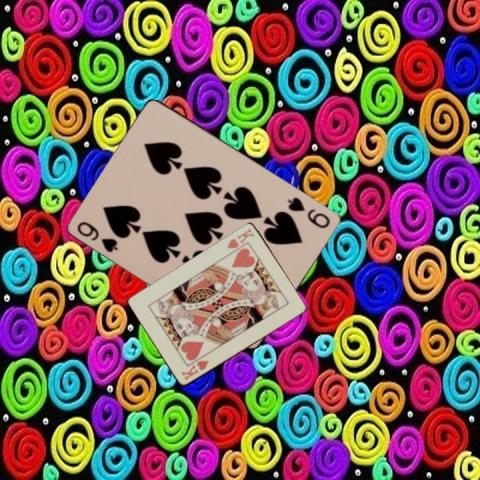9s: (285, 194, 332, 230), (74, 218, 120, 254)
Kh: (178, 357, 210, 382), (224, 225, 256, 250)
